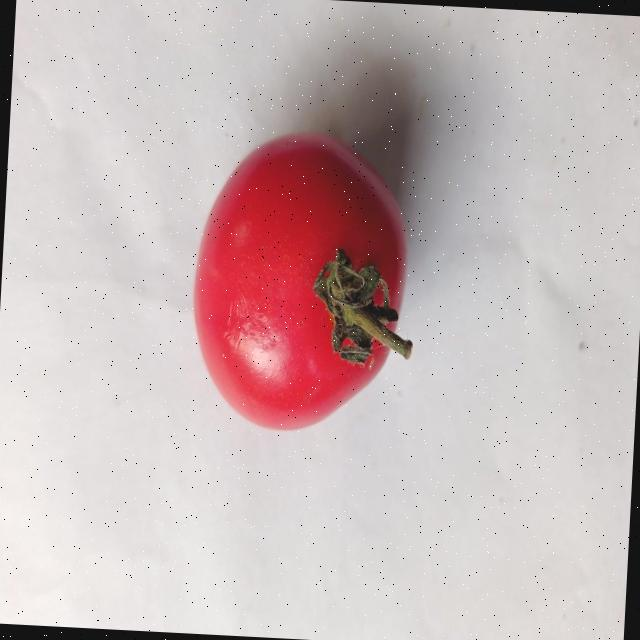Ripe: (182, 123, 416, 444)
